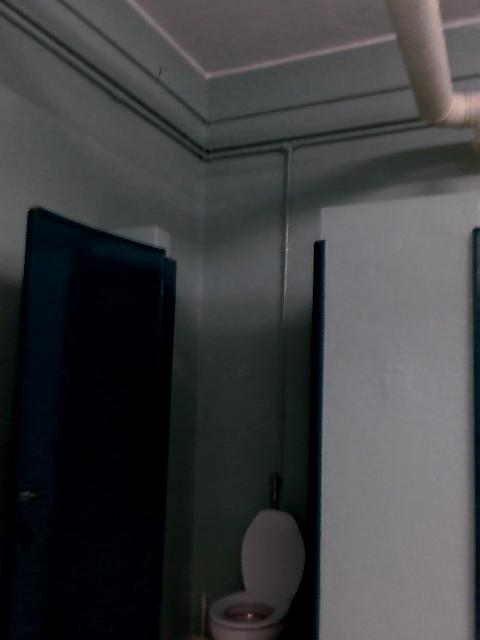open_door: (146, 257, 319, 639)
